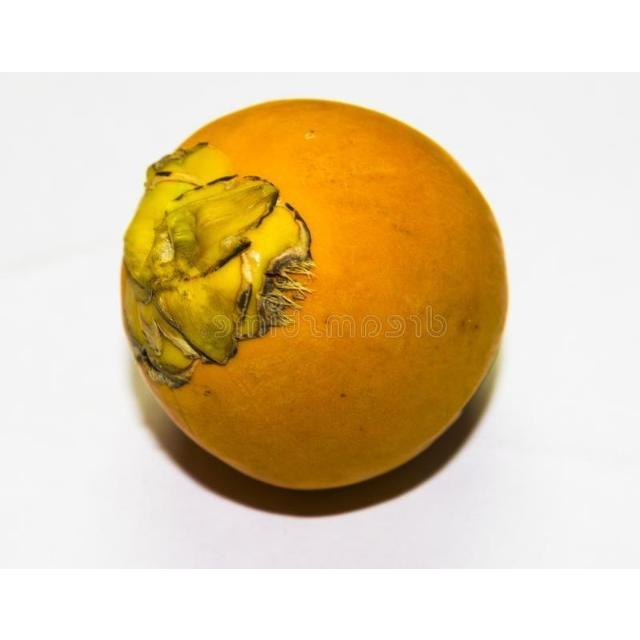good: (120, 98, 510, 493)
